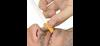Cigarette: (28, 0, 54, 32)
